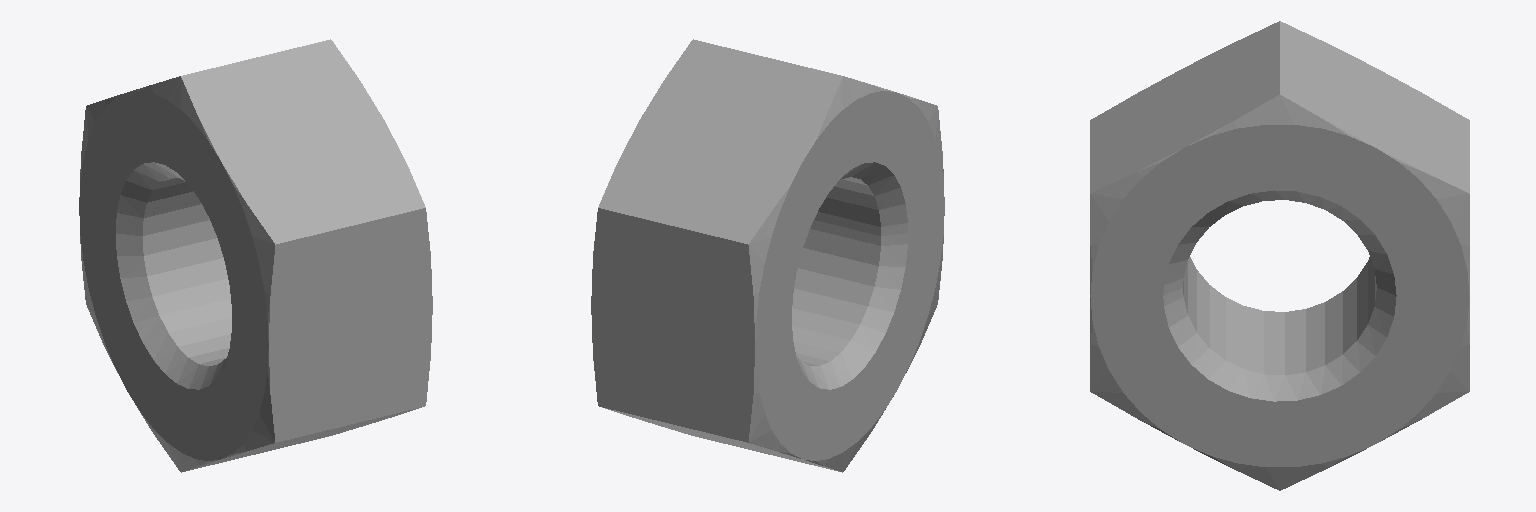
The model's file is hexagonal_nut_M08.obj.
3 views of the same model, side by side, from view 1: azimuth 30°, elevation 25°; view 2: azimuth 150°, elevation 25°; view 3: azimuth 270°, elevation 25° (orthographic).
Visible parts, largest first — view 1: 07210-08_1; view 2: 07210-08_1; view 3: 07210-08_1.
Part boxes in pixels (x1,y1,x2,y2): 07210-08_1: (79,39,432,472); 07210-08_1: (591,39,944,472); 07210-08_1: (1090,21,1469,490).
Size of the model in its own units: 6.5 by 15.01 by 13.